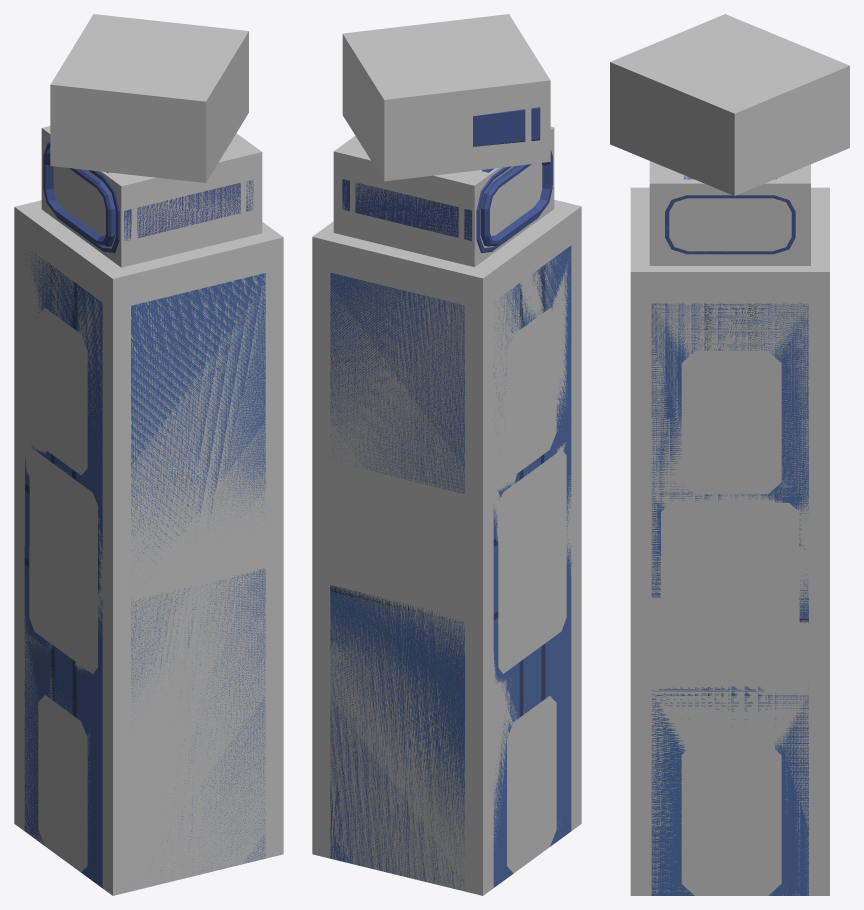
Rendered from SM_Building_10.fbx.
3 views of the same model, side by side, from view 1: azimuth 30°, elevation 25°; view 2: azimuth 150°, elevation 25°; view 3: azimuth 270°, elevation 25° (orthographic).
Visible parts, largest first — view 1: SM_Building_10_ConvexHulls, SM_Building_10; view 2: SM_Building_10_ConvexHulls, SM_Building_10; view 3: SM_Building_10_ConvexHulls, SM_Building_10.
Part boxes in pixels (<box>): SM_Building_10_ConvexHulls: <box>14,14,283,895</box>; SM_Building_10: <box>24,142,265,887</box>; SM_Building_10_ConvexHulls: <box>312,14,581,895</box>; SM_Building_10: <box>330,107,571,889</box>; SM_Building_10_ConvexHulls: <box>610,14,849,895</box>; SM_Building_10: <box>651,176,808,895</box>.
Size of the model in its own units: 314 by 318 by 1155.
2 materials, 1 textured.
